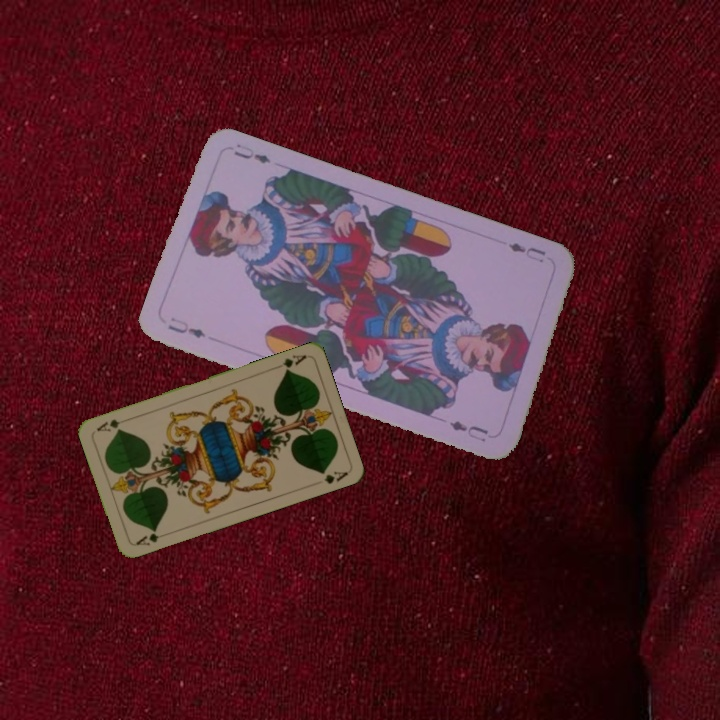EU: (164, 313, 209, 342), (504, 238, 548, 265)
GA: (270, 351, 309, 375), (131, 525, 161, 548)
